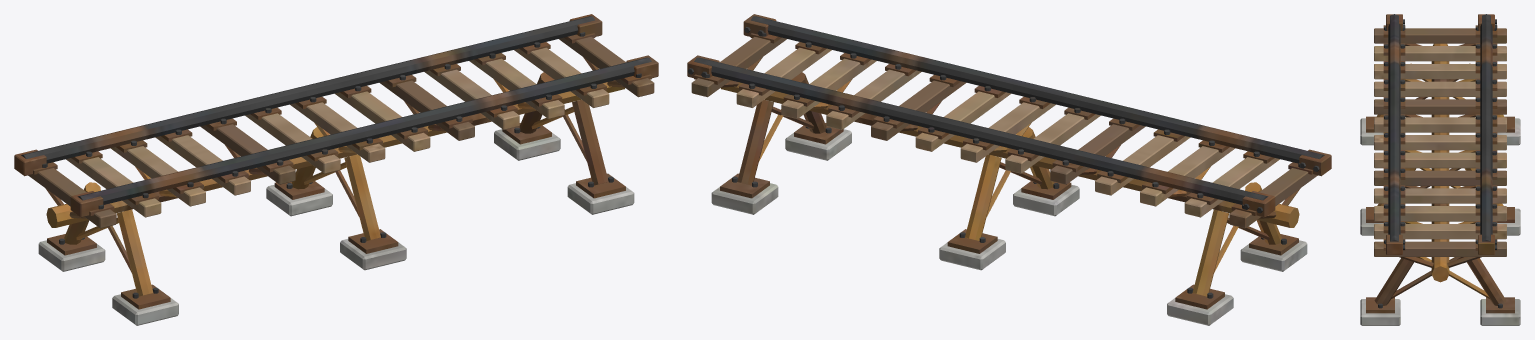
Rendered from CE05_coaster_track_piece_v1.glb.
The picture shows the model from 3 angles, left to right: view 1: azimuth 30°, elevation 25°; view 2: azimuth 150°, elevation 25°; view 3: azimuth 270°, elevation 25°; orthographic projection. The views are drawn at different scales.
Parts seen in each view (by area): view 1: Left running rail; view 2: Left running rail; view 3: Left running rail.
Boxes of the visible parts, x1=… form: Left running rail: x1=14, y1=14, x2=658, y2=325; Left running rail: x1=687, y1=14, x2=1331, y2=325; Left running rail: x1=1360, y1=14, x2=1520, y2=325.
Bounding box in the file's own units: 6 × 1.23 × 1.77.
6 materials, 6 textured.
